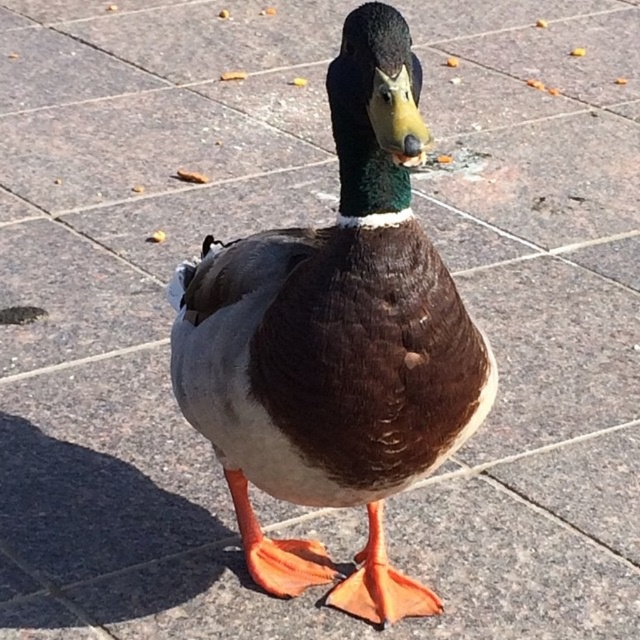Duck: (156, 30, 510, 620)
